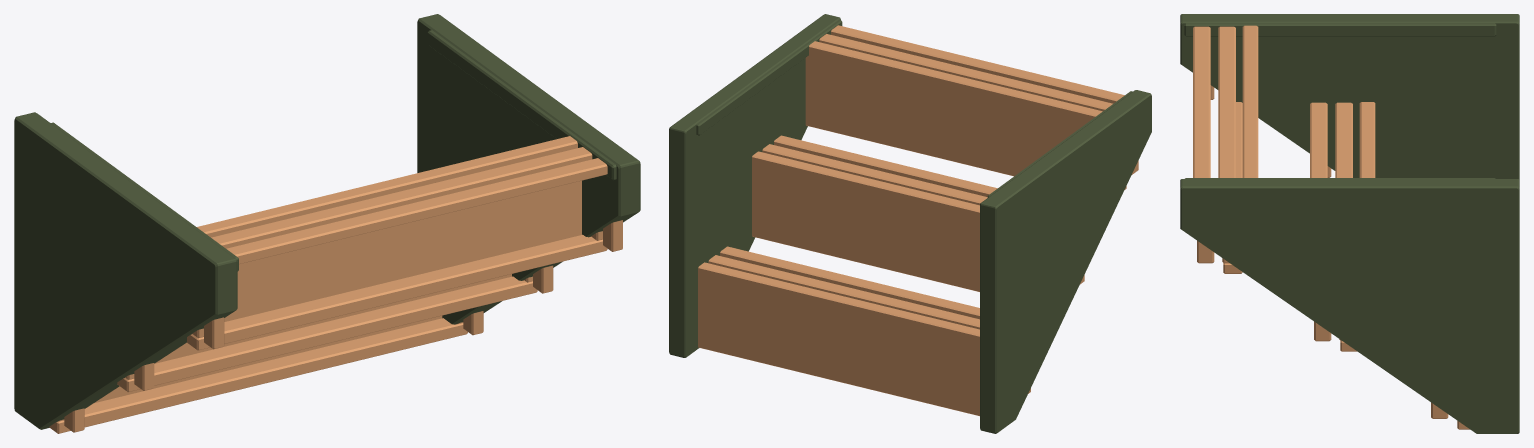
File: fixture_06_produce_stand.glb
The picture shows the model from 3 angles, left to right: view 1: azimuth 30°, elevation 25°; view 2: azimuth 150°, elevation 25°; view 3: azimuth 270°, elevation 25°; orthographic projection. The views are drawn at different scales.
Parts seen in each view (by area): view 1: fixture_06_produce_stand; view 2: fixture_06_produce_stand; view 3: fixture_06_produce_stand.
Boxes of the visible parts, box(x1,y1,x2,y2) form: fixture_06_produce_stand: box(14, 14, 640, 433); fixture_06_produce_stand: box(669, 14, 1151, 433); fixture_06_produce_stand: box(1180, 14, 1519, 433).
Size of what is drawn, in the model's own units: 1.06 by 0.7 by 0.87.
